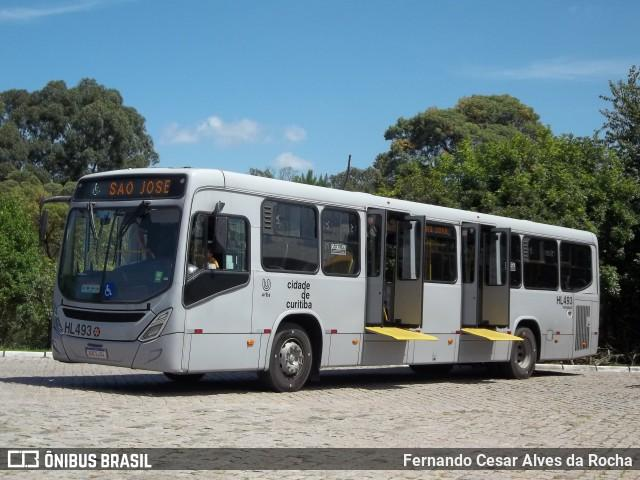SAO JOSE: (105, 177, 175, 199)
